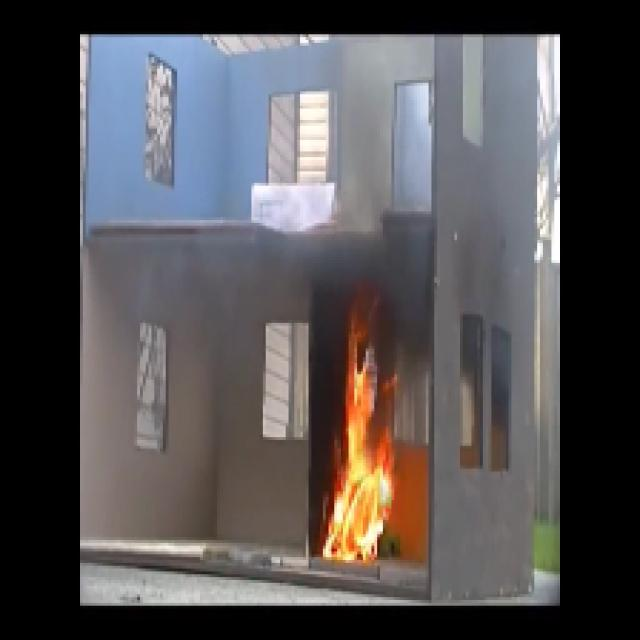fire: (326, 348, 398, 562)
smoke: (316, 233, 425, 305)
